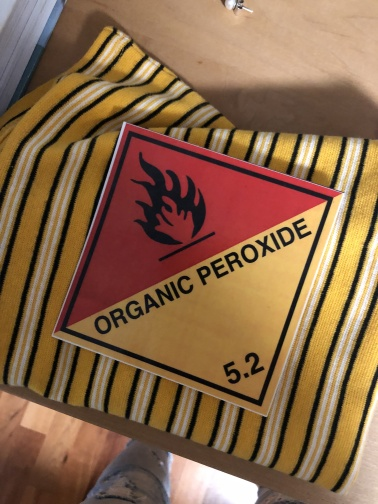OrganicPeroxide: (54, 124, 344, 417)
